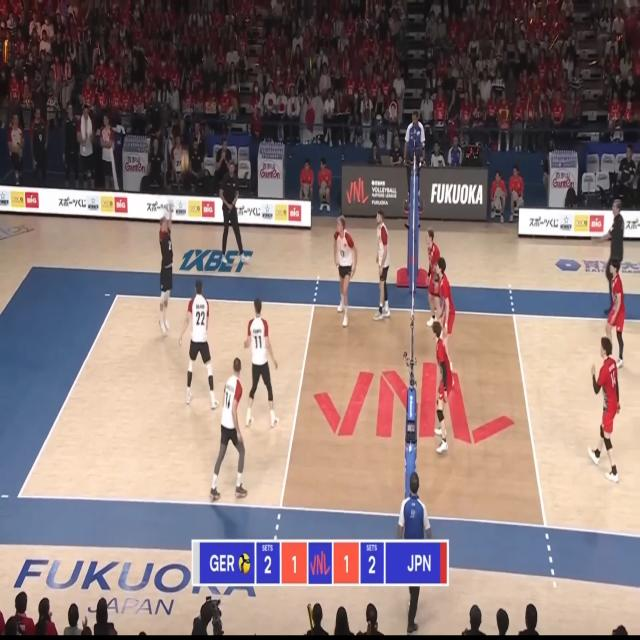ball: (182, 153, 189, 170)
